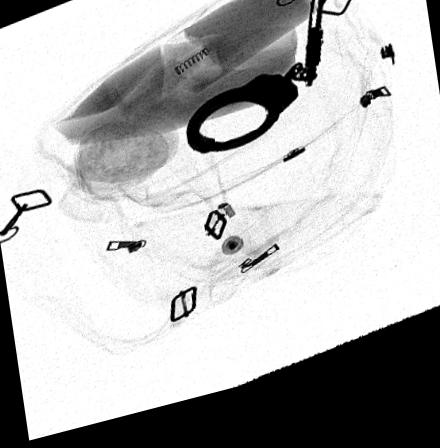HandCuffs: (185, 0, 327, 165)
